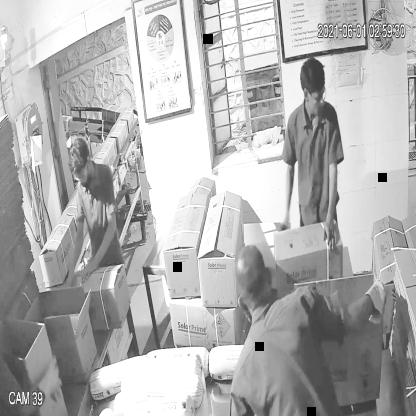goggles: (302, 85, 330, 109)
